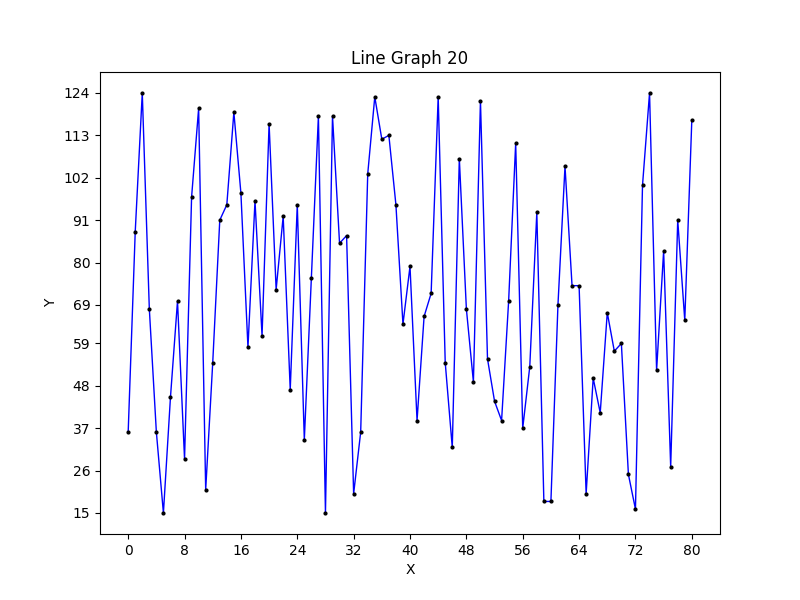cvs: (100, 72, 720, 534)
